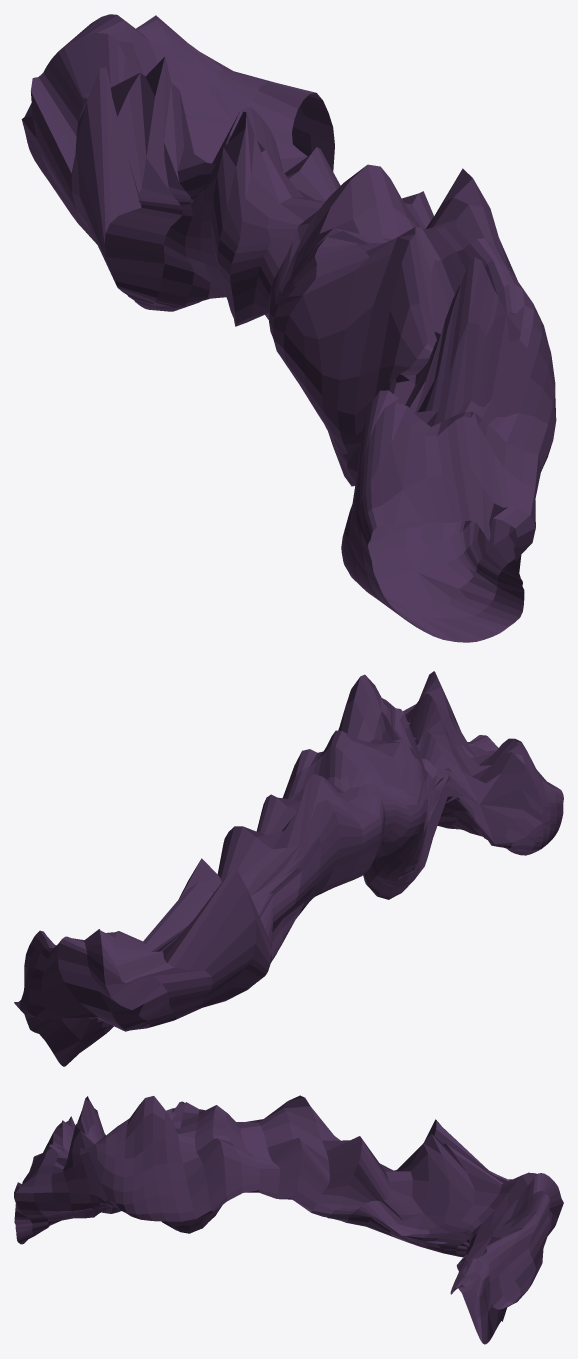
The model's file is cave.fbx.
The picture shows the model from 3 angles, top to bottom: view 1: azimuth 30°, elevation 25°; view 2: azimuth 150°, elevation 25°; view 3: azimuth 270°, elevation 25°; orthographic projection. The views are drawn at different scales.
Visible parts, largest first — view 1: Cylinder; view 2: Cylinder; view 3: Cylinder.
Part boxes in pixels (x1=…): Cylinder: x1=21, y1=14, x2=556, y2=642; Cylinder: x1=14, y1=671, x2=563, y2=1066; Cylinder: x1=14, y1=1095, x2=563, y2=1344.
Bounding box in the file's own units: 1988 × 1910 × 4475.
